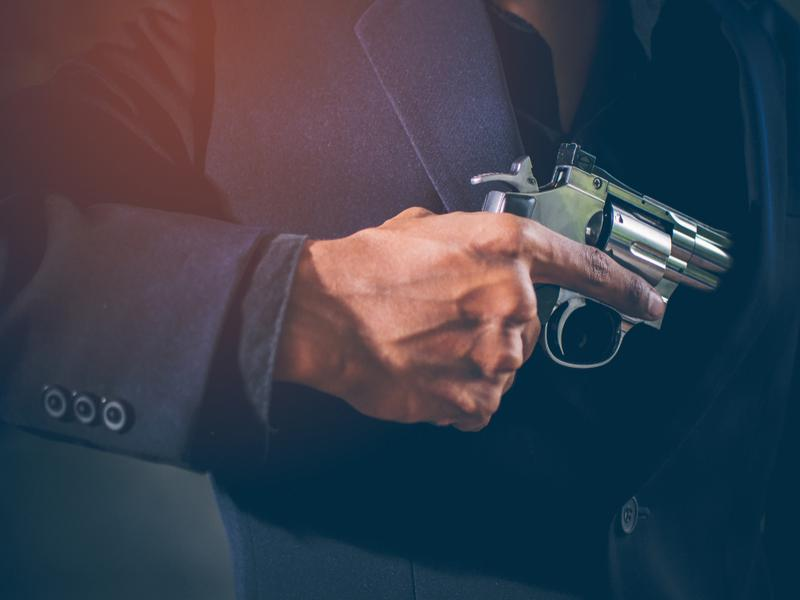Revolver: (458, 130, 795, 413)
